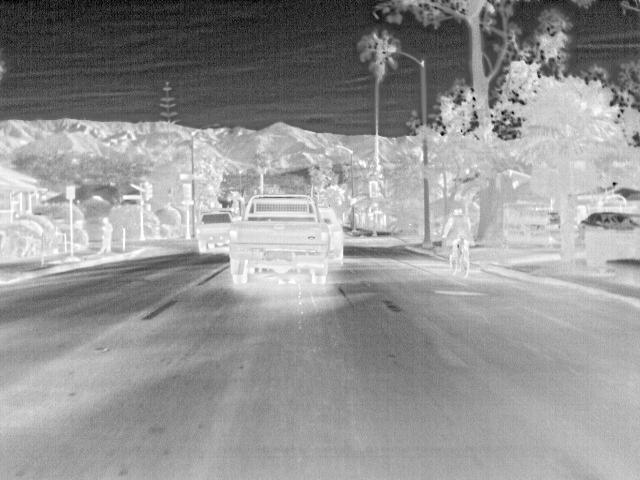car: (230, 196, 330, 284), (193, 209, 232, 252), (318, 207, 344, 260), (578, 210, 637, 233)
person: (442, 207, 471, 258), (98, 215, 113, 255)
